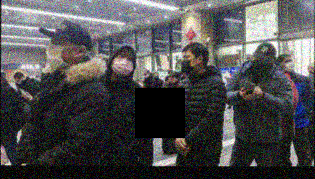with_mask: (45, 36, 74, 69), (110, 51, 135, 76), (251, 56, 273, 74), (179, 52, 196, 74), (282, 56, 295, 71), (13, 77, 22, 85), (142, 71, 148, 78), (137, 80, 143, 87)
without_mask: (167, 74, 176, 83)
